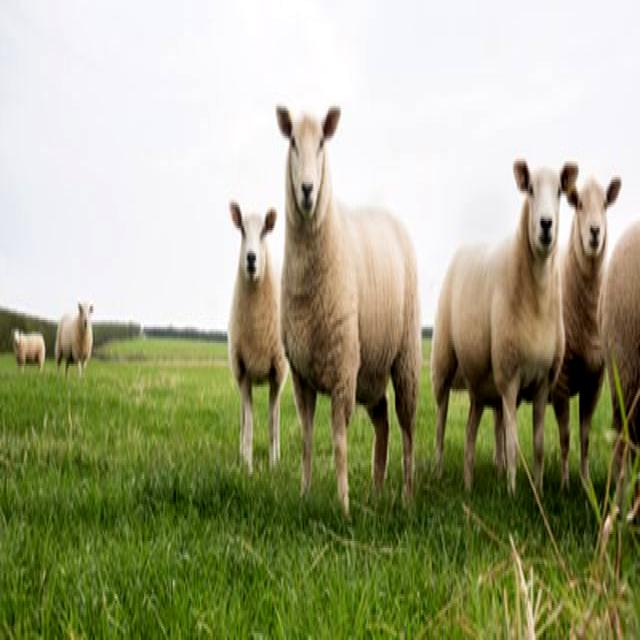sheep: (274, 105, 419, 522), (426, 156, 579, 510), (226, 201, 287, 477)
